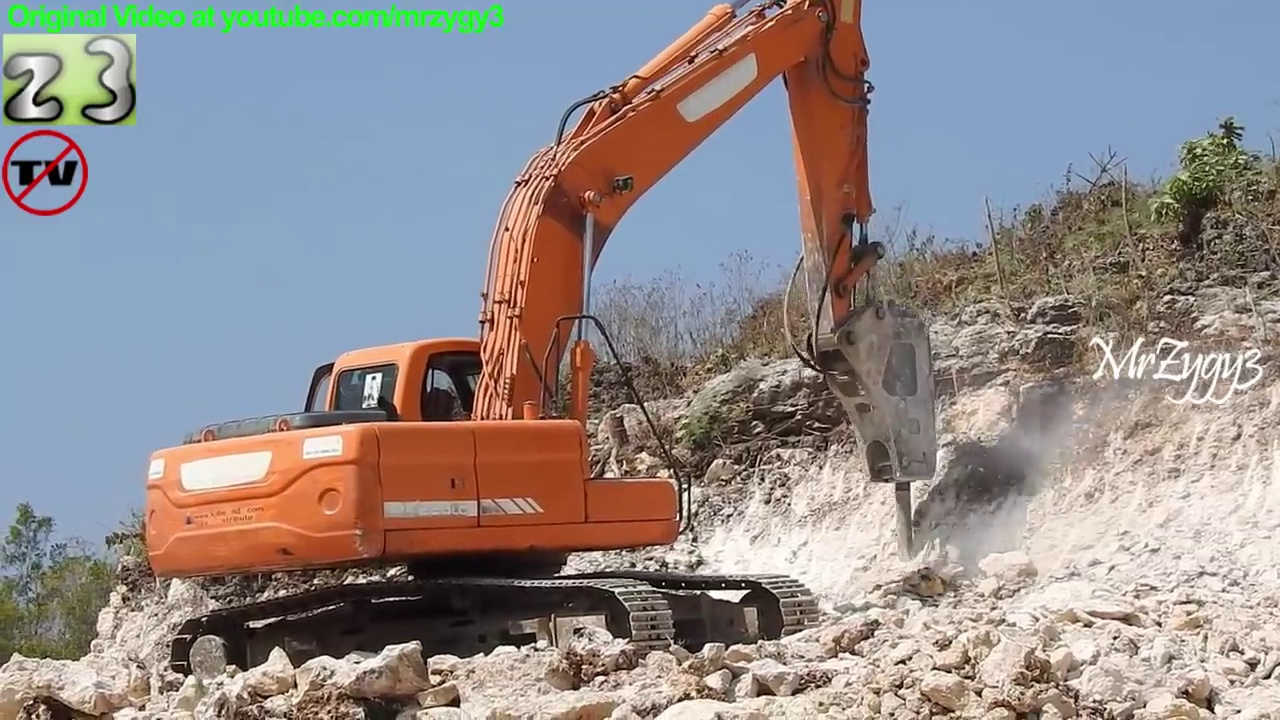excavator breaker: (138, 1, 946, 685)
